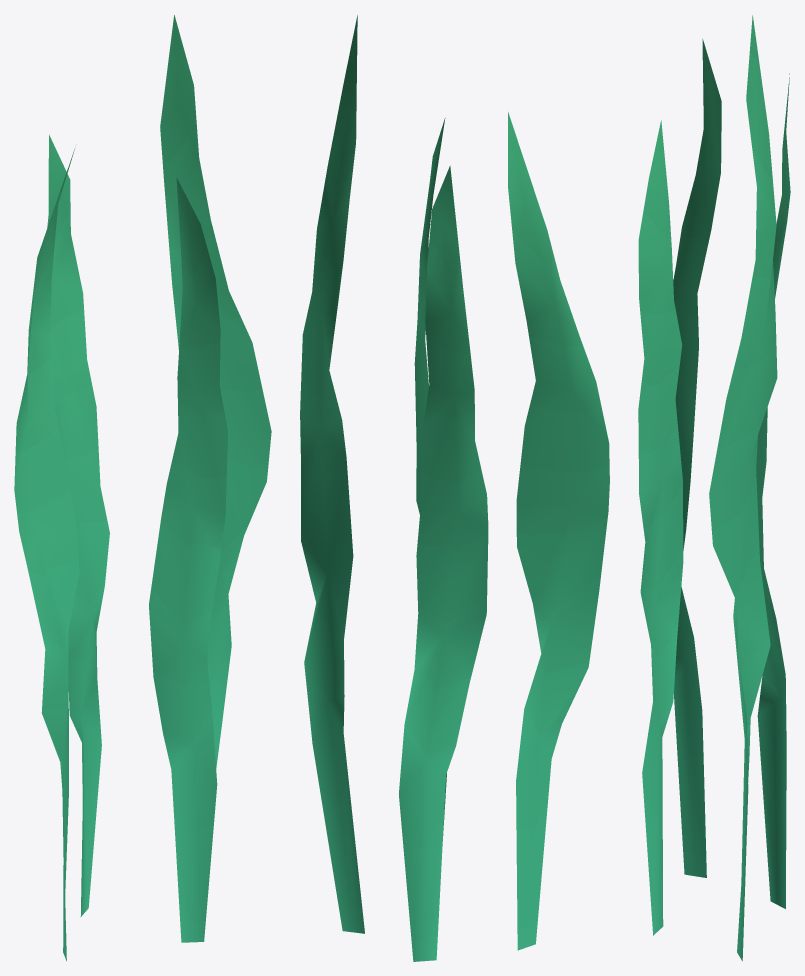
Rendered from SeaweedD.fbx.
The picture shows the model from 3 angles, left to right: view 1: azimuth 30°, elevation 25°; view 2: azimuth 150°, elevation 25°; view 3: azimuth 270°, elevation 25°; orthographic projection. The views are drawn at different scales.
Parts seen in each view (by area): view 1: SeaweedD; view 2: SeaweedD; view 3: SeaweedD.
Boxes of the visible parts, x1=… form: SeaweedD: x1=14, y1=15, x2=271, y2=961; SeaweedD: x1=300, y1=15, x2=609, y2=961; SeaweedD: x1=638, y1=15, x2=790, y2=961.
Bounding box in the file's own units: 44.81 × 138 × 20.27.
Materials: 1 (1 with a texture image).
